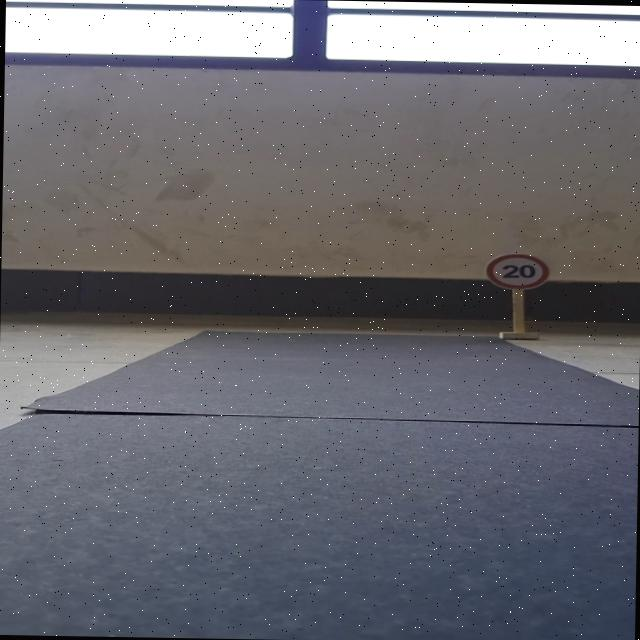Speed20: (484, 250, 555, 294)
